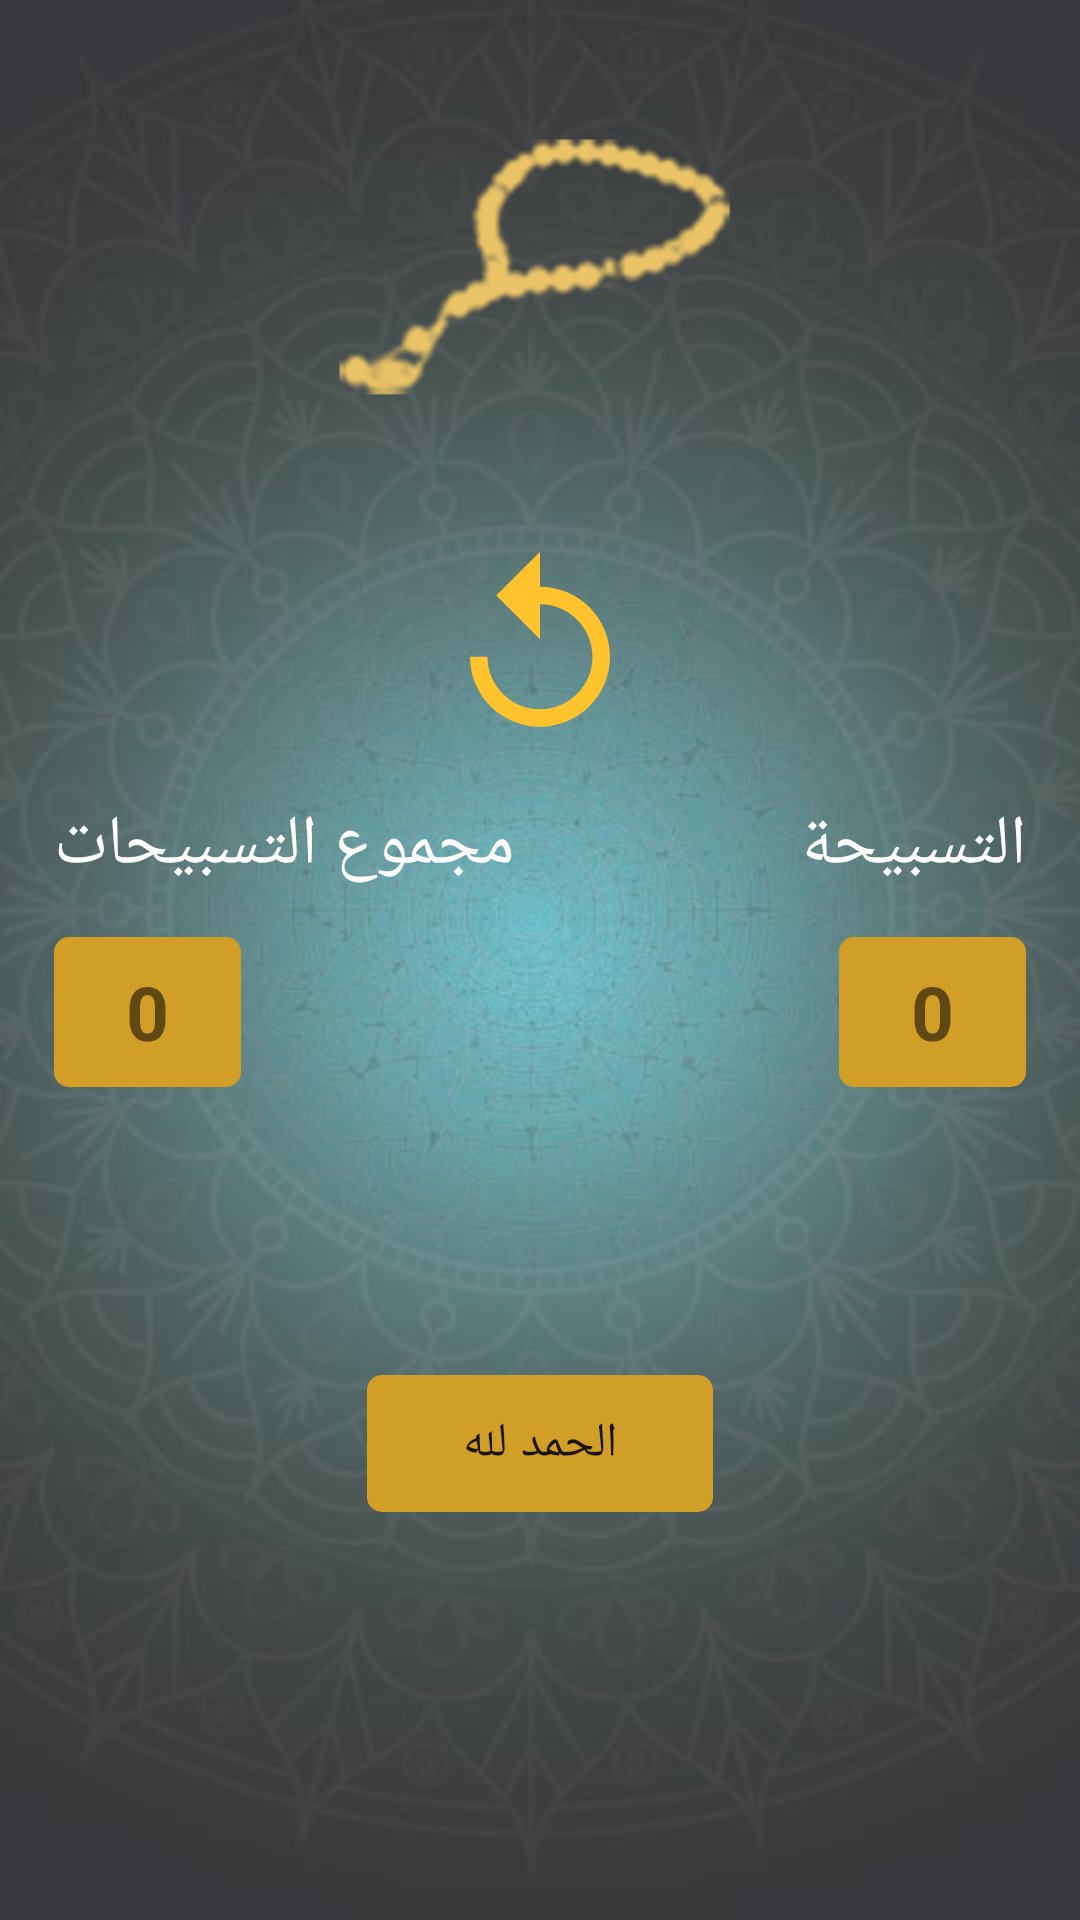

Point at icon controls on the screen. Image size 1080×1920, points as [x,y].
refresh icon: [540,648]
